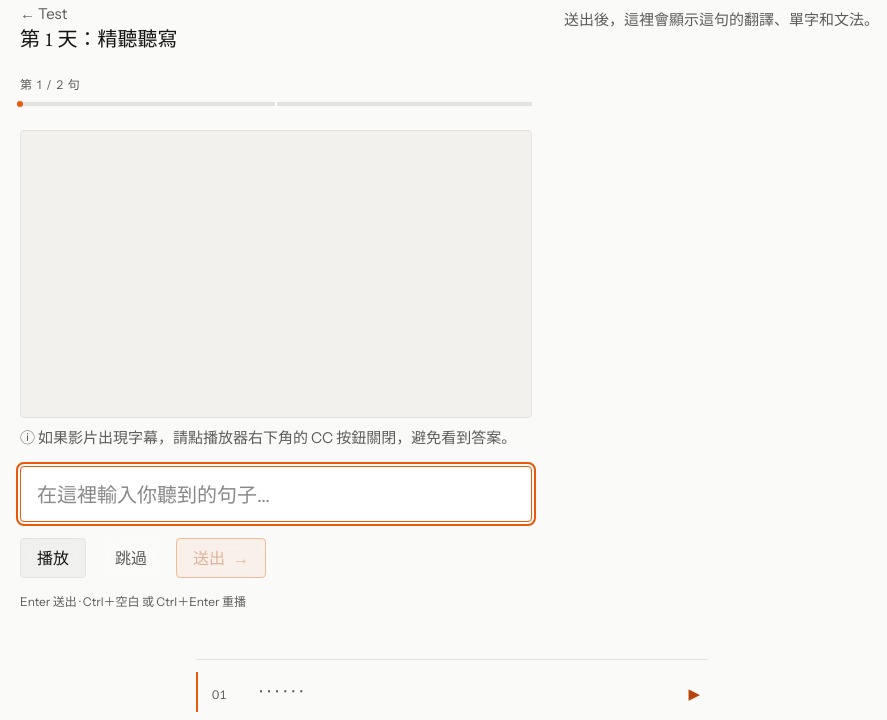
Test case: DictationSession controls › plays and then replays the current sentence from the button
Click the button "播放" at x=53, y=558, box [20,538,86,578]
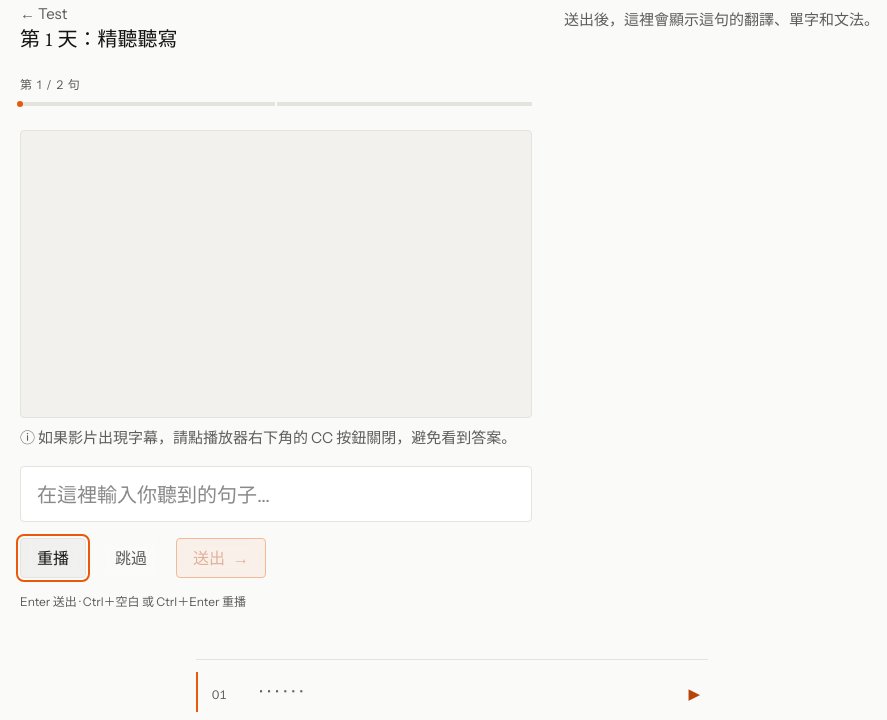
Expected: the button "重播" is shown, [20,538,86,578]
